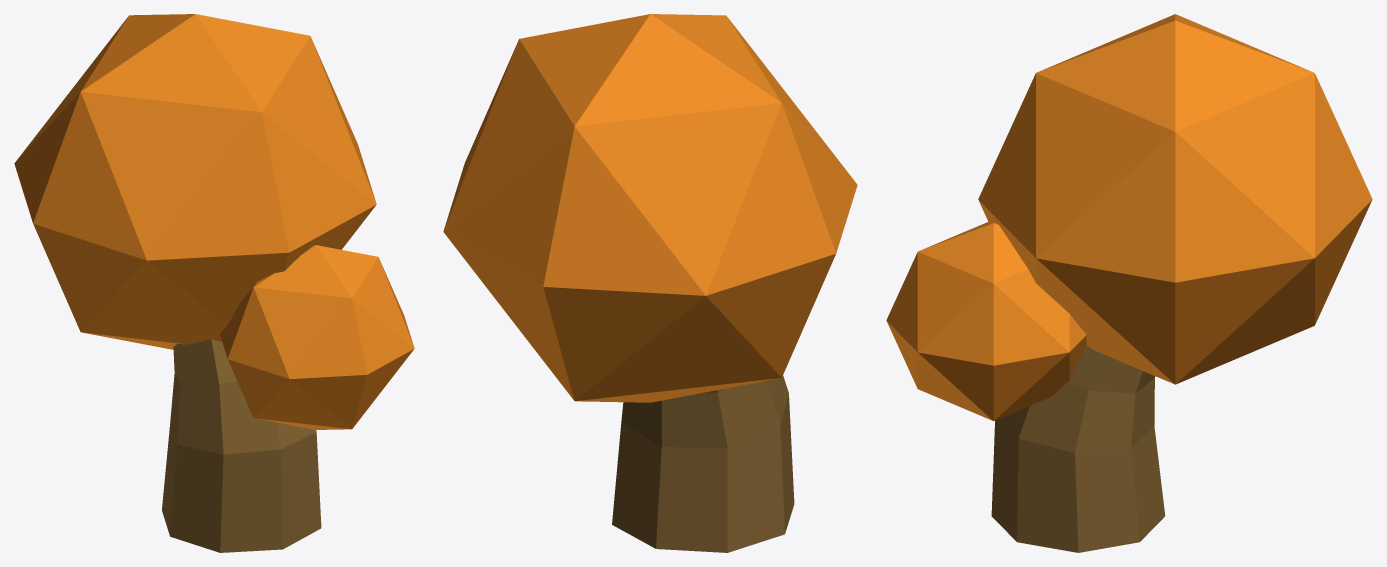
Rendered from tree1.fbx.
3 views of the same model, side by side, from view 1: azimuth 30°, elevation 25°; view 2: azimuth 150°, elevation 25°; view 3: azimuth 270°, elevation 25° (orthographic). The views are drawn at different scales.
Parts seen in each view (by area): view 1: Объект_Сфера, Объект_Сфера_1, Объект_Цилиндр; view 2: Объект_Сфера, Объект_Цилиндр; view 3: Объект_Сфера, Объект_Цилиндр, Объект_Сфера_1.
Part boxes in pixels (bbox=[...]): Объект_Сфера: bbox=[14, 14, 376, 349]; Объект_Сфера_1: bbox=[220, 245, 414, 429]; Объект_Цилиндр: bbox=[162, 339, 321, 552]; Объект_Сфера: bbox=[443, 14, 857, 402]; Объект_Цилиндр: bbox=[612, 375, 794, 552]; Объект_Сфера: bbox=[978, 14, 1372, 384]; Объект_Цилиндр: bbox=[991, 345, 1165, 552]; Объект_Сфера_1: bbox=[886, 222, 1086, 420].
Bounding box in the file's own units: 280 × 388 × 345.
